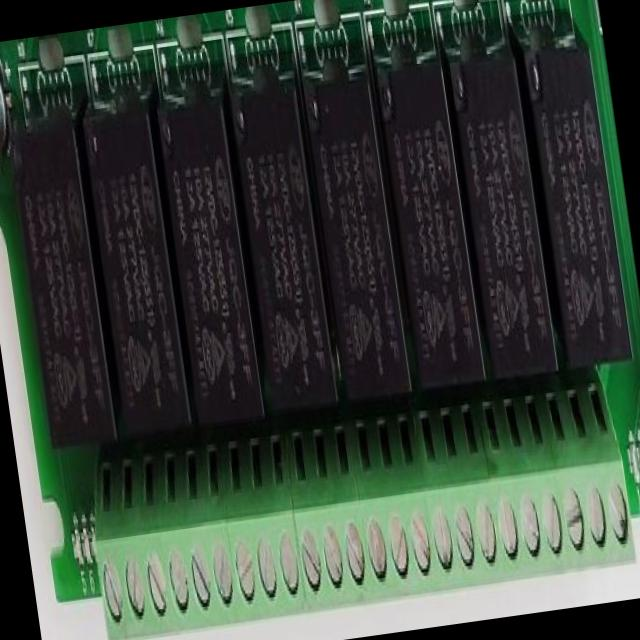connector: (81, 389, 640, 640)
